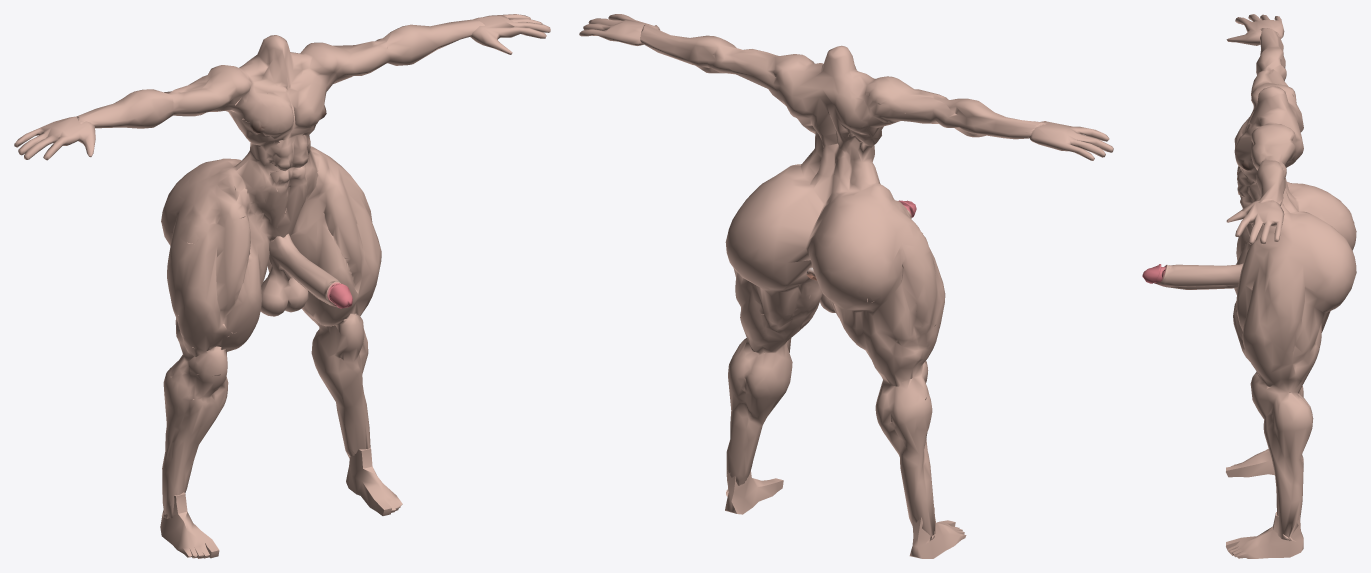
The model's file is project13.glb.
3 renders of one model, left to right at view 1: azimuth 30°, elevation 25°; view 2: azimuth 150°, elevation 25°; view 3: azimuth 270°, elevation 25°, orthographic. The views are drawn at different scales.
Size of the model in its own units: 5.15 by 4.5 by 2.05.
